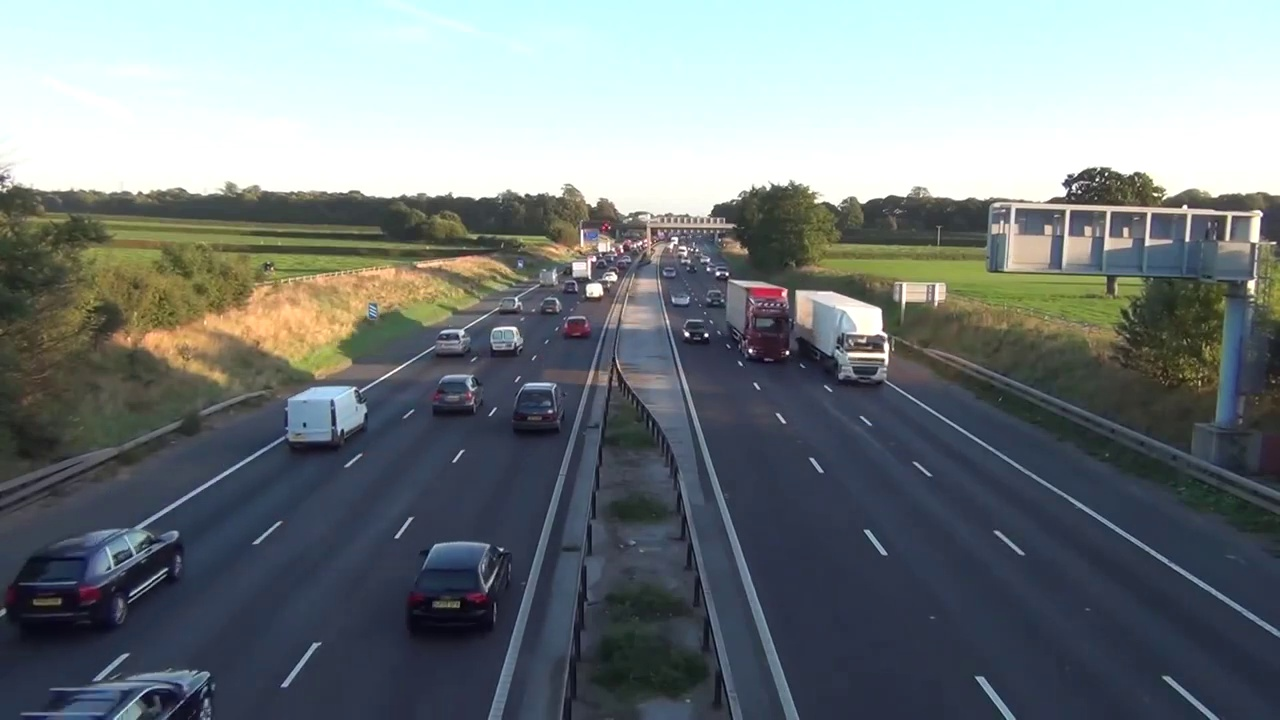bus: (4, 526, 186, 628), (408, 540, 512, 634), (512, 381, 567, 429), (431, 373, 483, 414), (434, 329, 472, 355), (681, 319, 710, 344), (563, 316, 592, 337), (705, 289, 726, 306), (541, 297, 562, 314), (499, 297, 521, 312), (671, 291, 691, 306), (562, 280, 578, 294), (662, 267, 676, 278)
car: (796, 289, 889, 384), (726, 279, 792, 363), (571, 260, 592, 281)
lorry: (284, 386, 369, 448), (490, 326, 524, 357), (586, 283, 606, 300), (715, 267, 729, 279)
